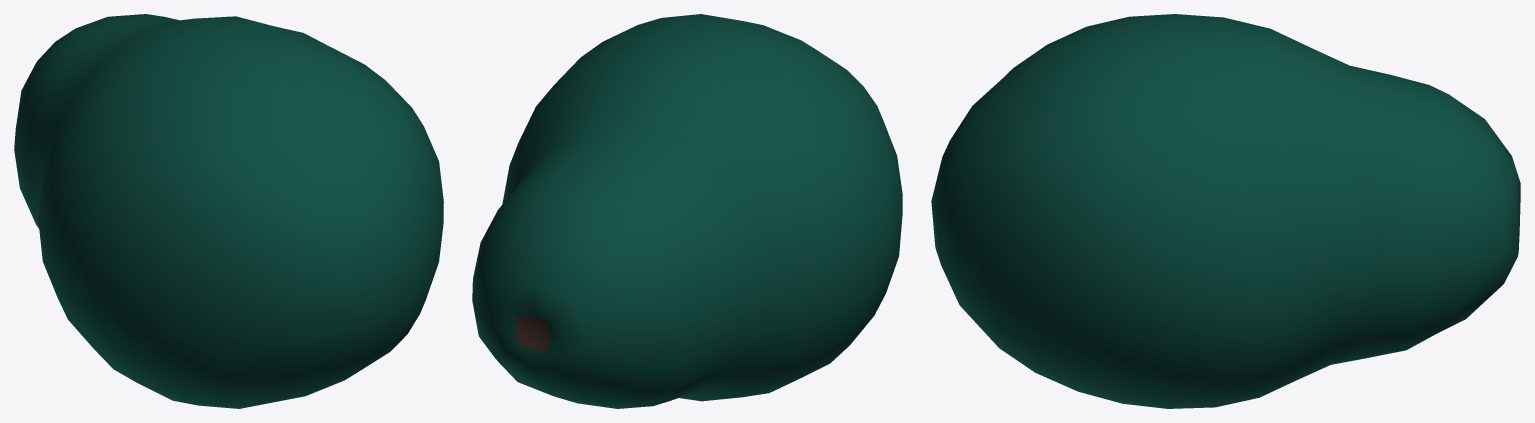
The model's file is Avocado_01.dae.
The picture shows the model from 3 angles, left to right: view 1: azimuth 30°, elevation 25°; view 2: azimuth 150°, elevation 25°; view 3: azimuth 270°, elevation 25°; orthographic projection. The views are drawn at different scales.
Visible parts, largest first — view 1: Avocado_01_LOD0; view 2: Avocado_01_LOD0; view 3: Avocado_01_LOD0.
Boxes of the visible parts, left/top/right/bottom form: Avocado_01_LOD0: left=14, top=14, right=443, bottom=408; Avocado_01_LOD0: left=472, top=14, right=902, bottom=408; Avocado_01_LOD0: left=931, top=14, right=1520, bottom=408.
Size of what is drawn, in the model's own units: 3.35 by 4.69 by 3.13.
